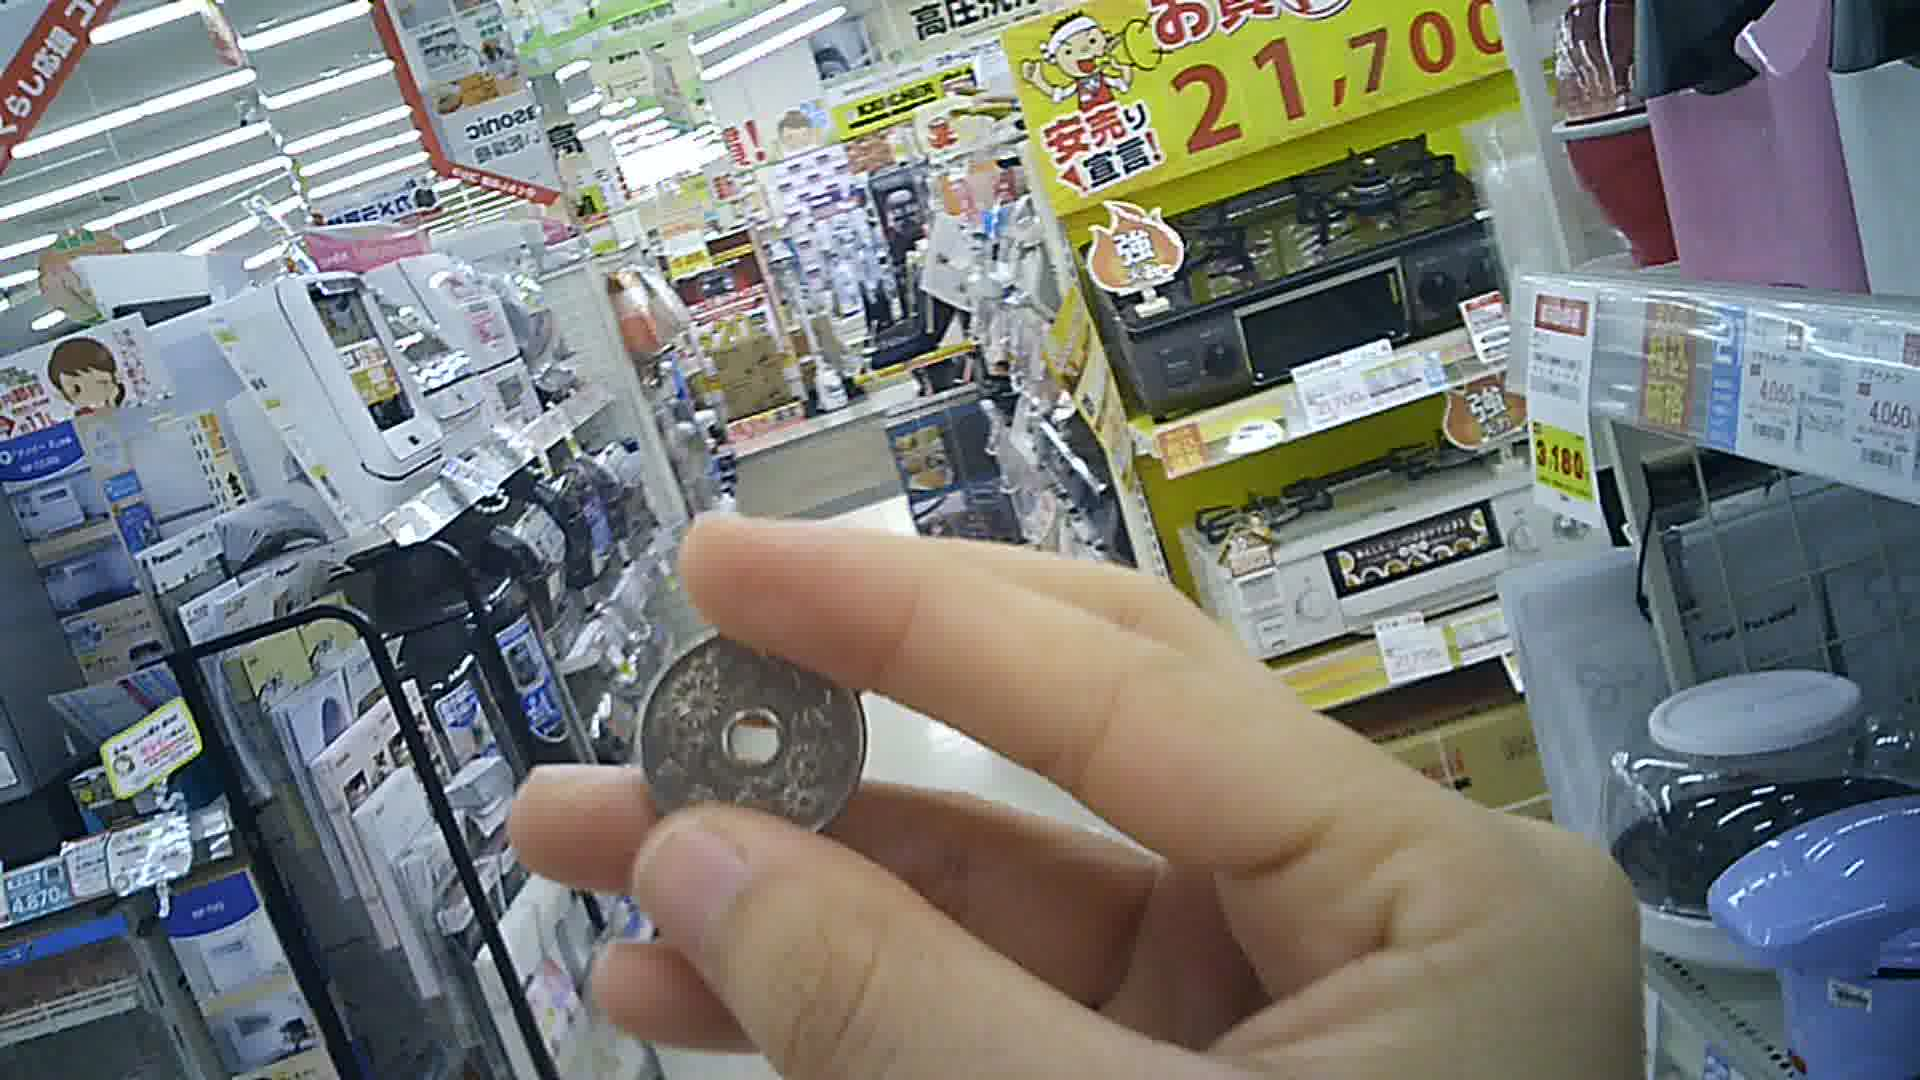50 Yen: (640, 618, 866, 841)
